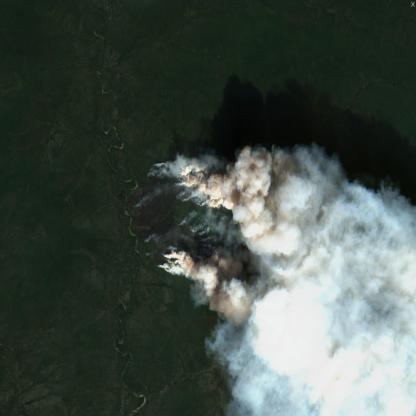fire: (121, 149, 239, 300)
